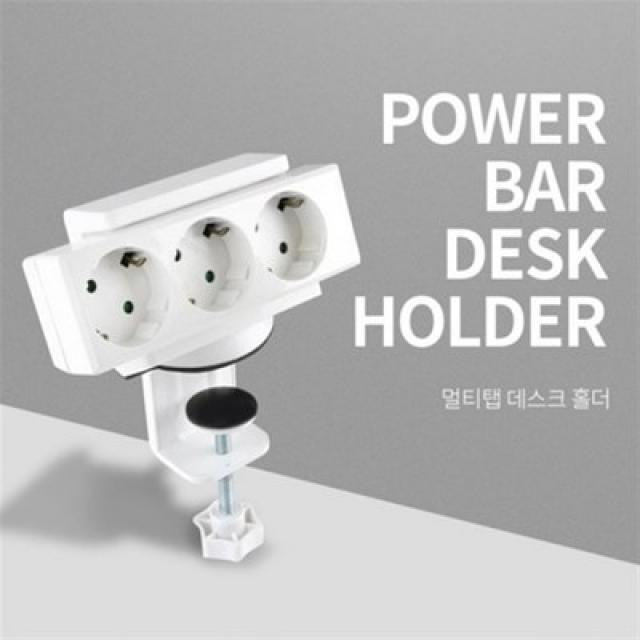typeb: (30, 150, 361, 377)
